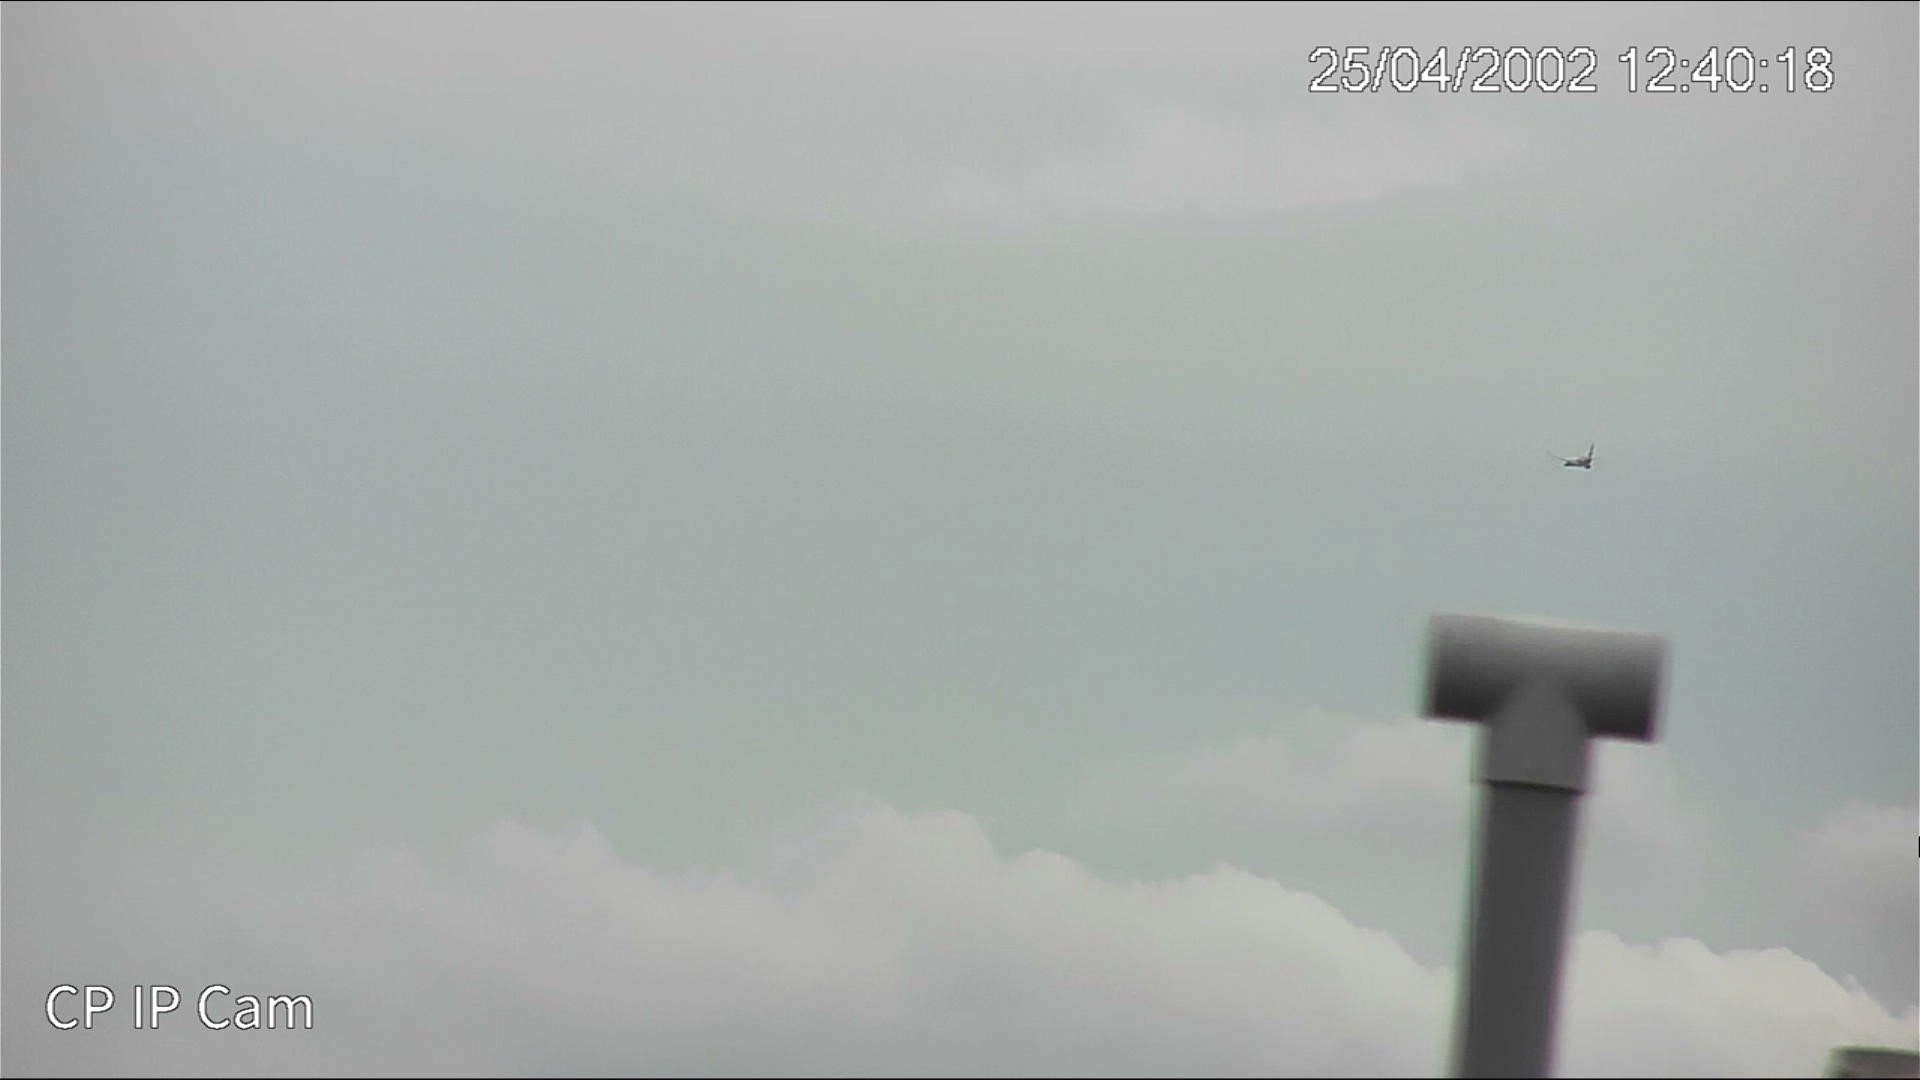SU_30: (1563, 446, 1604, 471)
